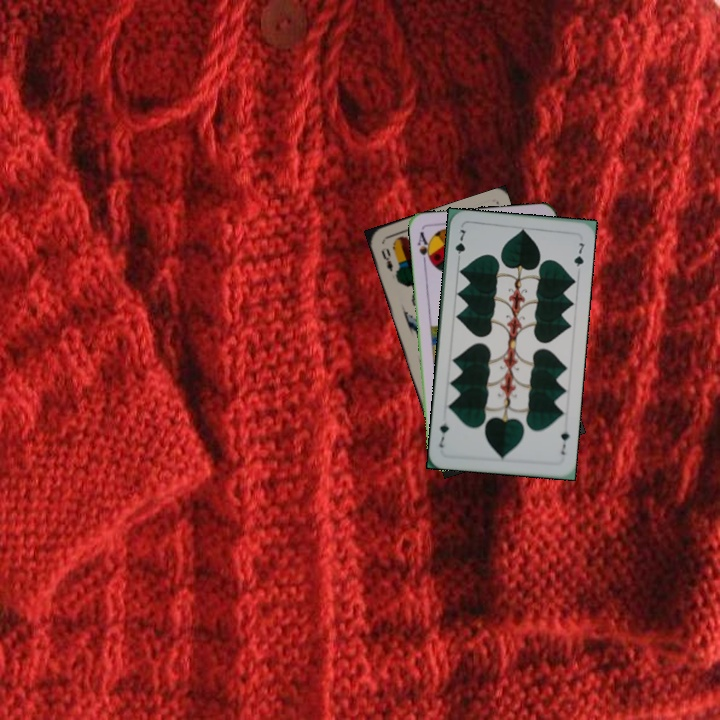EO: (377, 244, 401, 279)
G7: (451, 225, 468, 265), (557, 427, 572, 458)
SA: (414, 228, 434, 268)
